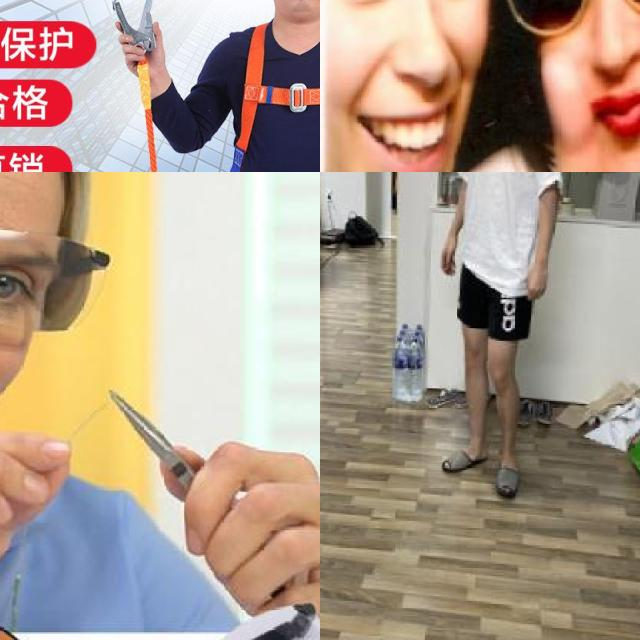Harness: (227, 20, 320, 172), (110, 0, 167, 74)
Sandals: (490, 444, 544, 512), (431, 432, 492, 482)
face_nomask: (326, 0, 495, 172), (507, 0, 640, 137), (0, 212, 53, 423)
glasses: (0, 179, 113, 338), (488, 0, 640, 43)
hand_noglove: (152, 428, 320, 631), (539, 37, 640, 172), (0, 420, 77, 583)
